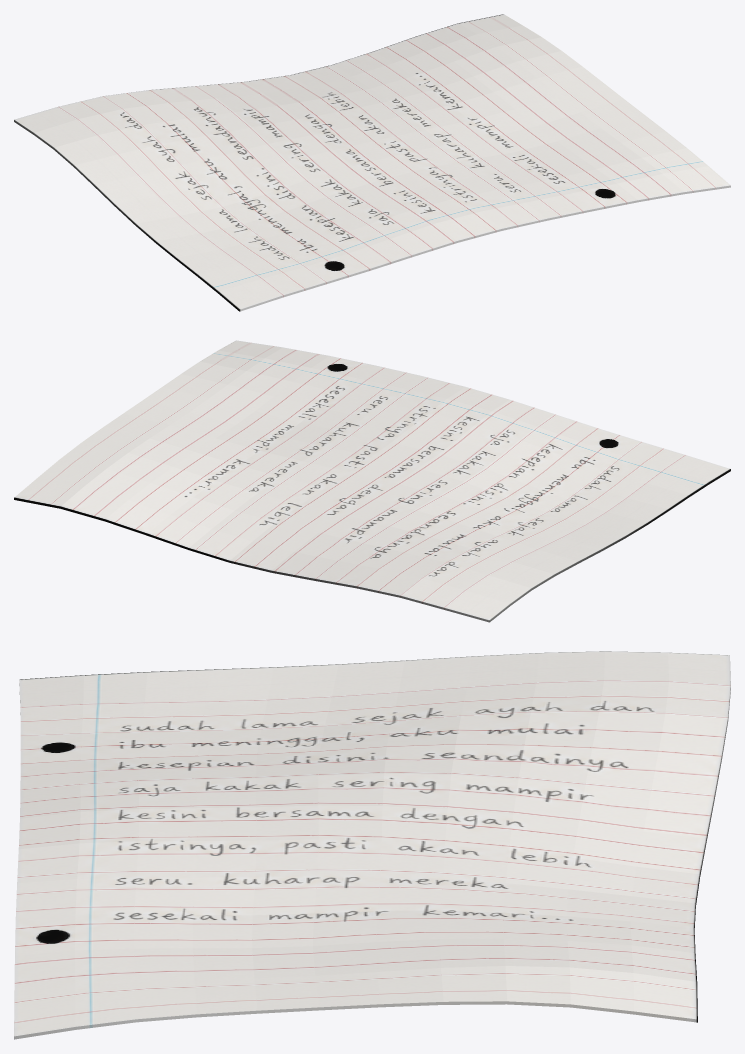
The model's file is Catatan kk.fbx.
3 views of the same model, one above another, from view 1: azimuth 30°, elevation 25°; view 2: azimuth 150°, elevation 25°; view 3: azimuth 270°, elevation 25° (orthographic). The views are drawn at different scales.
Parts seen in each view (by area): view 1: catatan; view 2: catatan; view 3: catatan.
Boxes of the visible parts, x1=… form: catatan: x1=14, y1=14, x2=730, y2=311; catatan: x1=14, y1=340, x2=730, y2=622; catatan: x1=14, y1=651, x2=730, y2=1039.
Bounding box in the file's own units: 147 × 7.99 × 122.
Materials: 1 (1 with a texture image).
